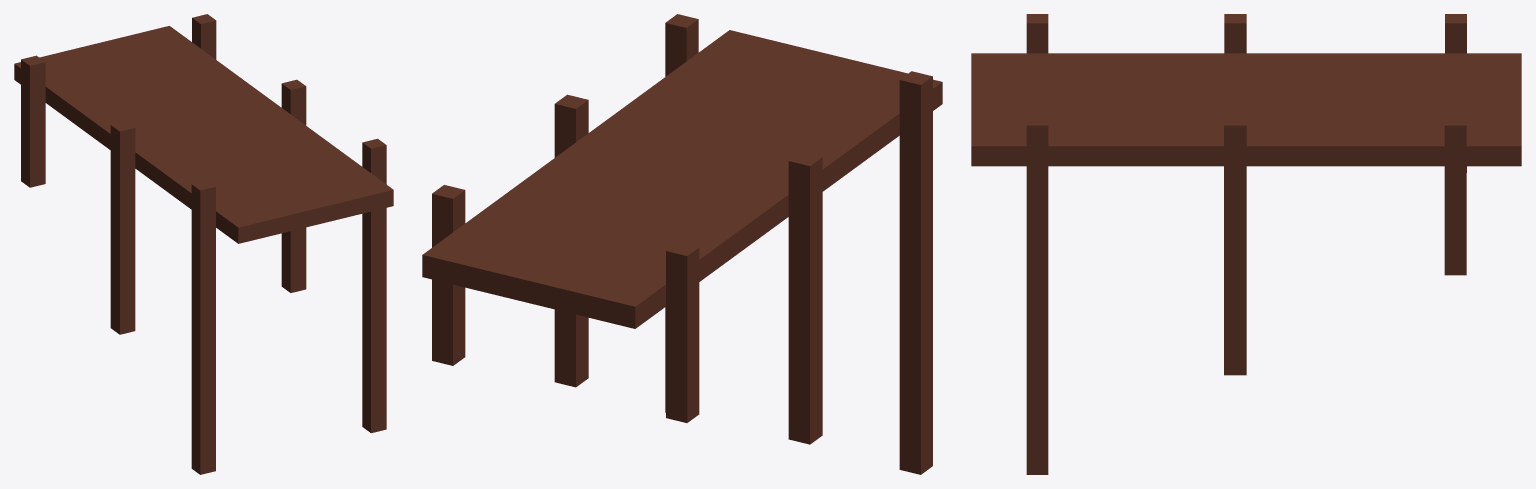
The model's file is ShorePier.glb.
The picture shows the model from 3 angles, left to right: view 1: azimuth 30°, elevation 25°; view 2: azimuth 150°, elevation 25°; view 3: azimuth 270°, elevation 25°; orthographic projection. The views are drawn at different scales.
Visible parts, largest first — view 1: Pier; view 2: Pier; view 3: Pier.
Part boxes in pixels (box(x1,y1,x2,y2)): Pier: box(14, 14, 393, 474); Pier: box(422, 14, 942, 474); Pier: box(971, 14, 1521, 474).
Size of the model in its own units: 2.4 by 3.5 by 5.
1 material, 1 textured.
